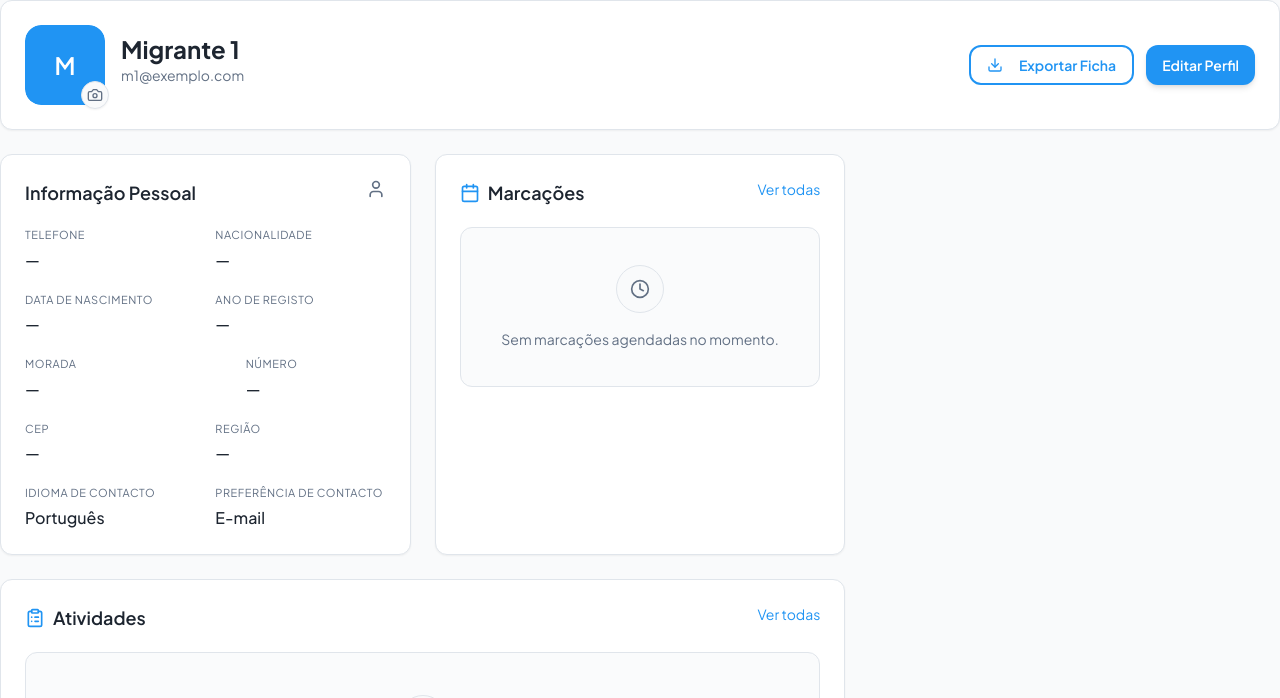
Test case: ProfilePage (dashboard/migrante) › valida campos obrigatórios (Morada, Número, CEP e Região) no perfil CPC
Expected: the heading "Informação Pessoal" is shown, [25,179,196,207]
Click the button "Editar Perfil" at (1201, 65), box [1146,45,1255,85]
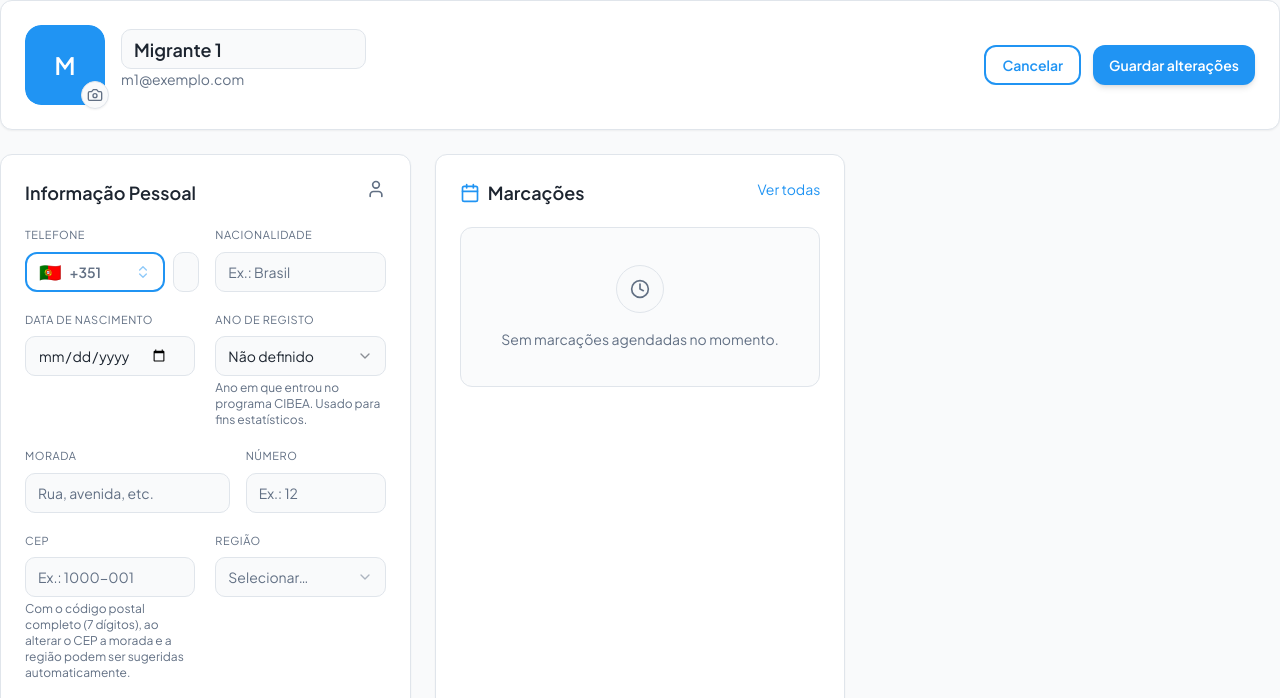
Click the button "Guardar alterações" at (1174, 65), box [1093,45,1255,85]
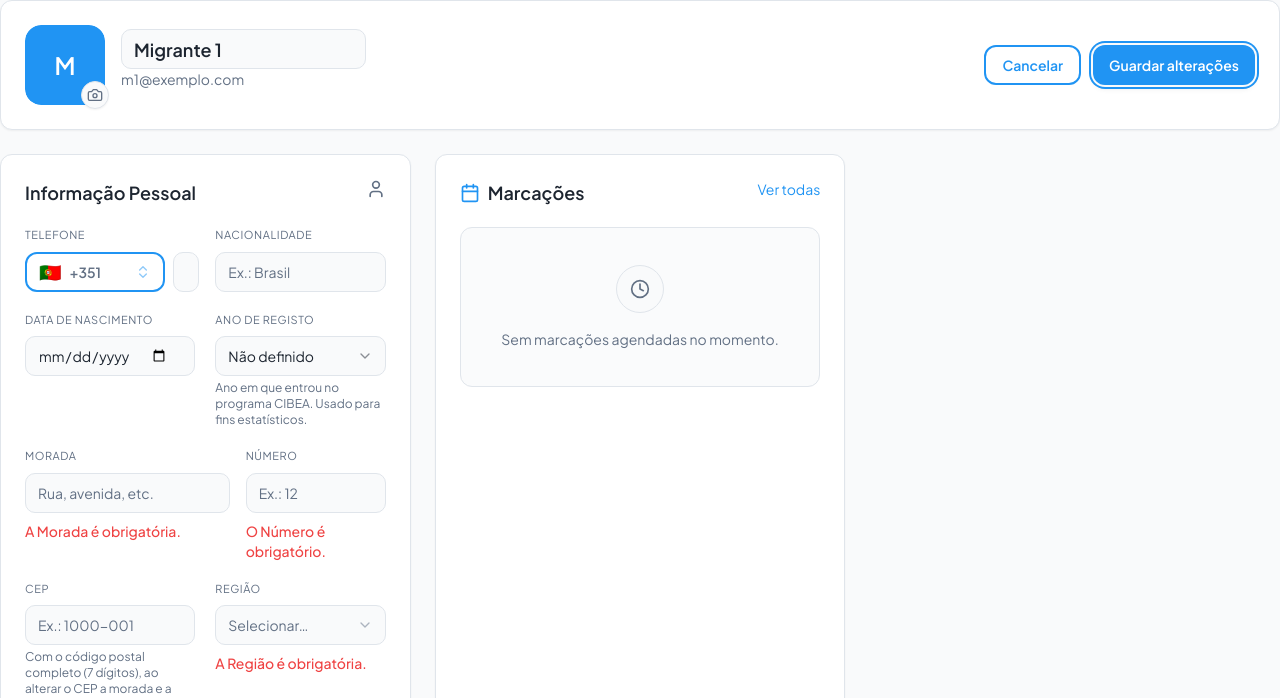
Now the text "A Morada é obrigatória." is shown, box [25,522,181,540]
Now the text "O Número é obrigatório." is shown, box [246,522,326,560]
Now the text "A Região é obrigatória." is shown, box [215,653,386,673]
